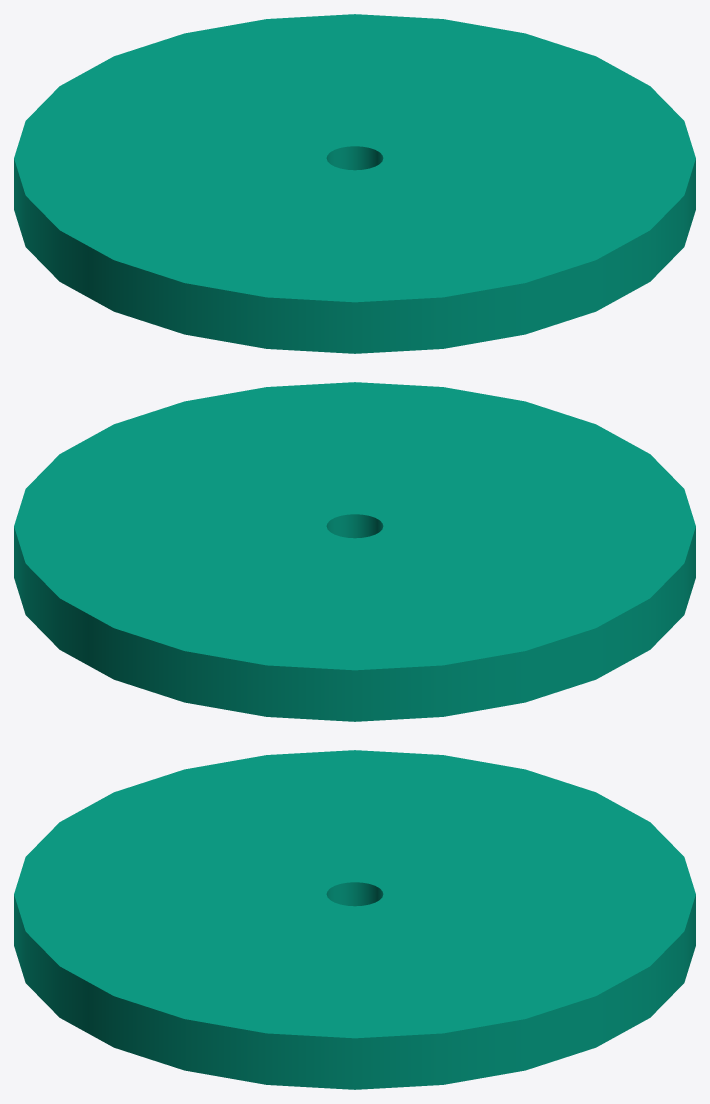
The model's file is disc5.dae.
3 views of the same model, one above another, from view 1: azimuth 30°, elevation 25°; view 2: azimuth 150°, elevation 25°; view 3: azimuth 270°, elevation 25° (orthographic).
Parts seen in each view (by area): view 1: SketchUp (×2); view 2: SketchUp (×2); view 3: SketchUp (×2).
Boxes of the visible parts, box(x1,y1,x2,y2) form: SketchUp (×2): box(14, 14, 695, 353); SketchUp (×2): box(14, 382, 695, 721); SketchUp (×2): box(14, 750, 695, 1089).
Size of the model in its own units: 6 by 6 by 0.5.
1 material, 1 textured.
